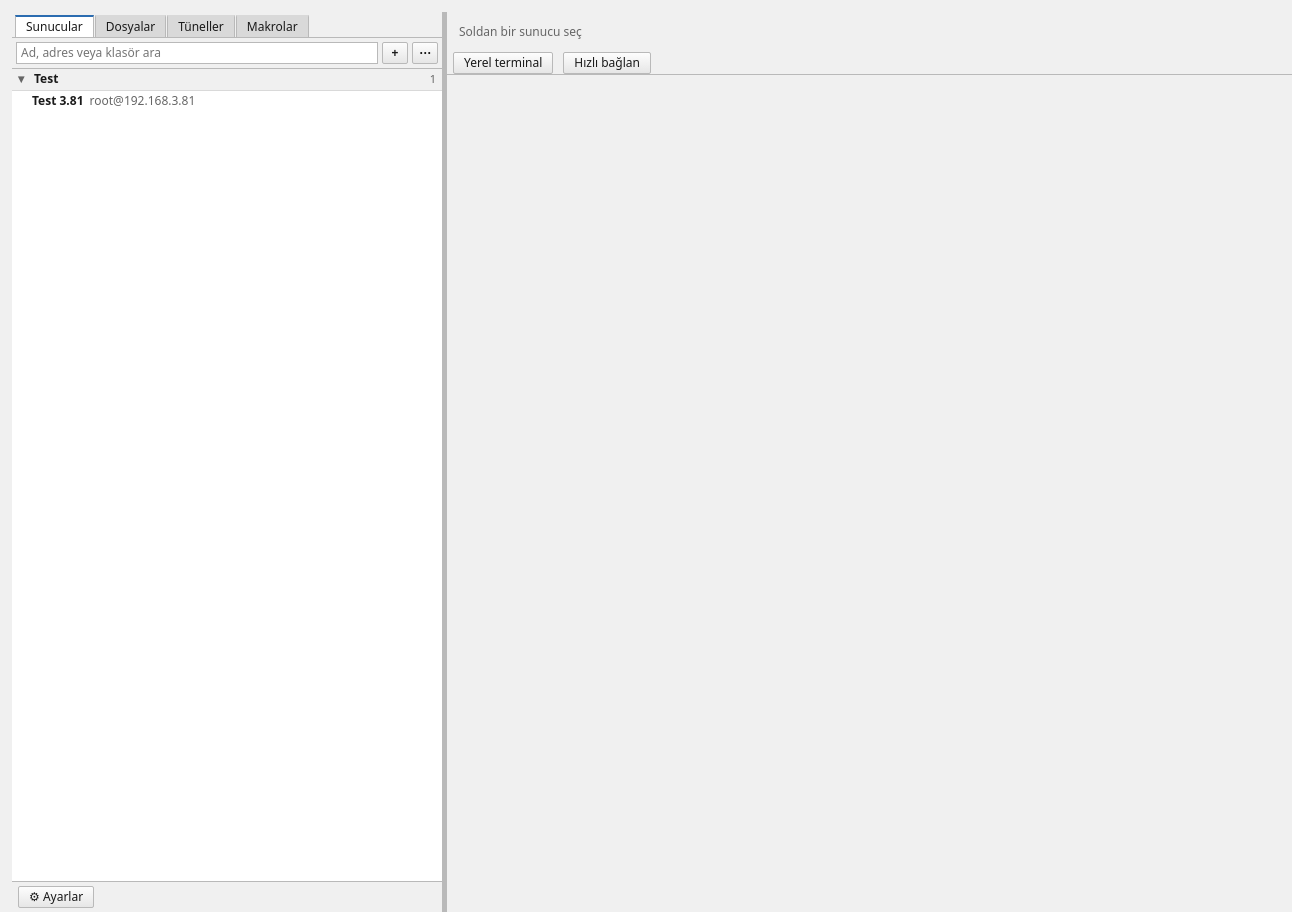
it: importing from a file reloads the list and reports what happened
This screenshot has width=1292, height=912.
Expected: the text "Test 3.81" is shown, [32,93,84,109]
Click the button named "Diğer işlemler".
click(425, 53)  # box [412,42,438,64]
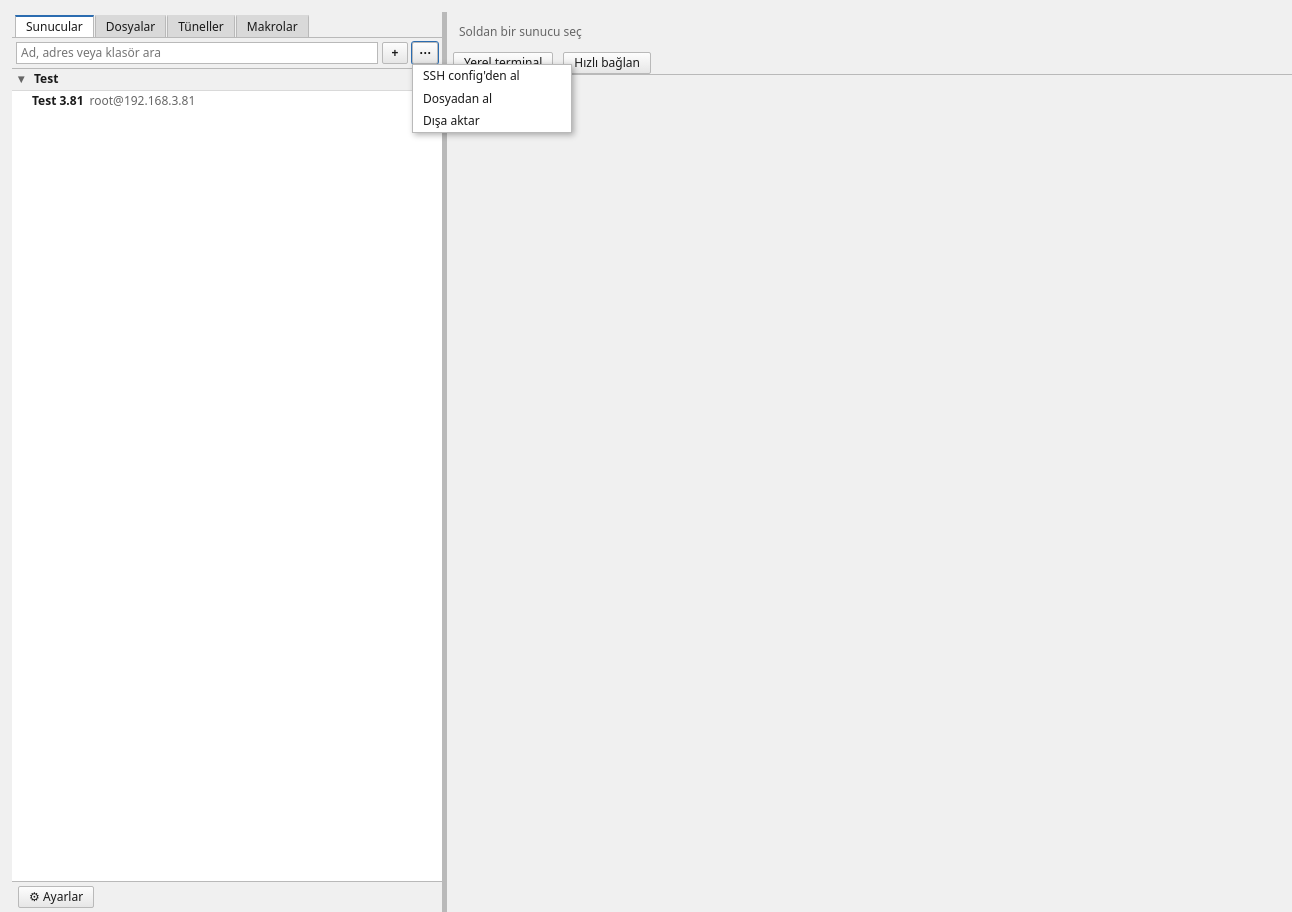
Click the menu item "Dosyadan al".
click(492, 99)  # box [413,88,571,110]
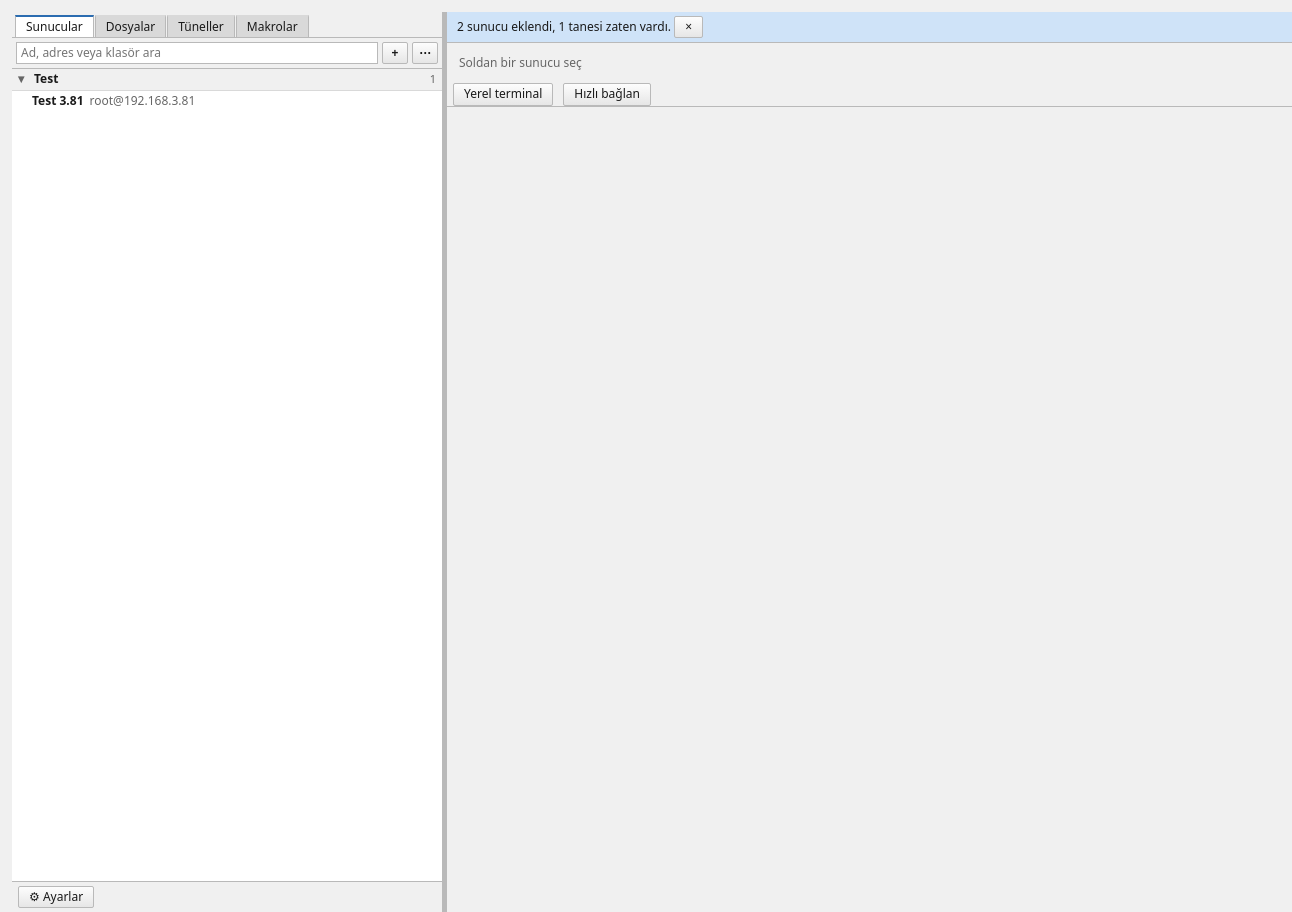
Result: the text "2 sunucu eklendi, 1 tanesi zaten vardı." is shown at [457,18,671,35]
